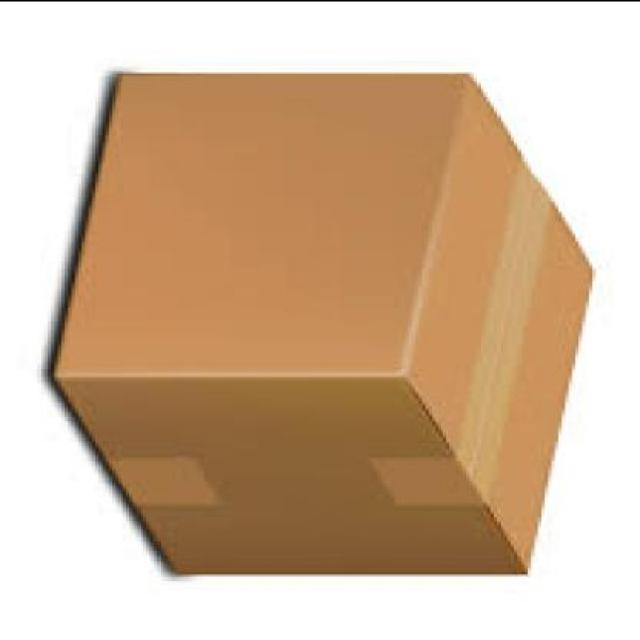CARDBOARD: (55, 66, 599, 571), (48, 70, 469, 372), (406, 69, 596, 571), (54, 372, 532, 571)
